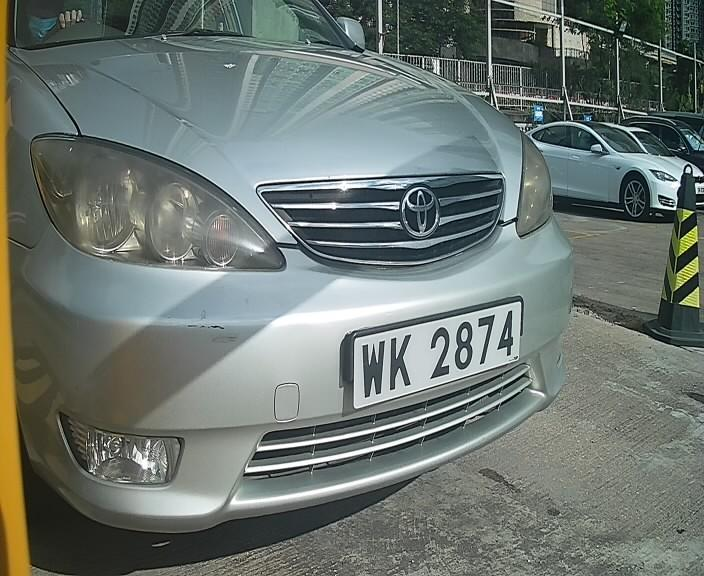License Plate: (334, 294, 519, 415)
